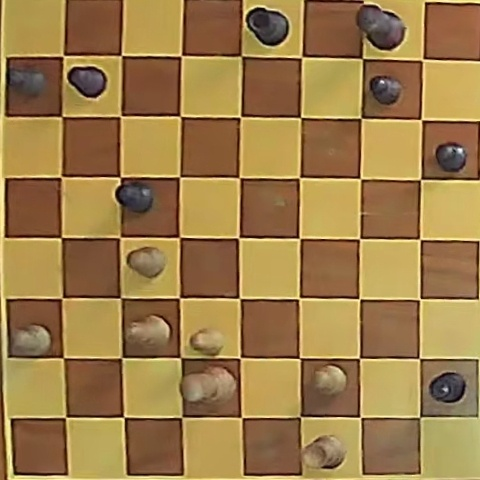black-king: (357, 5, 406, 50)
black-pawn: (68, 66, 106, 98), (116, 182, 154, 213), (8, 67, 46, 96), (370, 76, 402, 105), (436, 143, 467, 172)
black-rook: (246, 7, 289, 46), (428, 372, 466, 404)
white-bishop: (126, 315, 170, 350)
white-king: (181, 366, 235, 404)
white-pawn: (11, 324, 51, 356), (127, 246, 166, 278), (314, 365, 346, 395), (189, 328, 224, 355)
white-rook: (303, 435, 347, 470)
